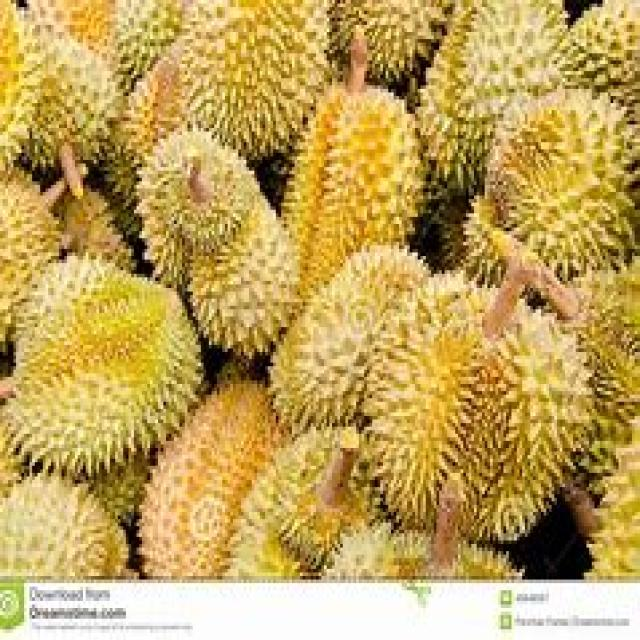mature: (362, 274, 589, 540), (11, 272, 201, 476), (138, 131, 299, 356), (282, 66, 421, 300), (271, 246, 429, 432)
